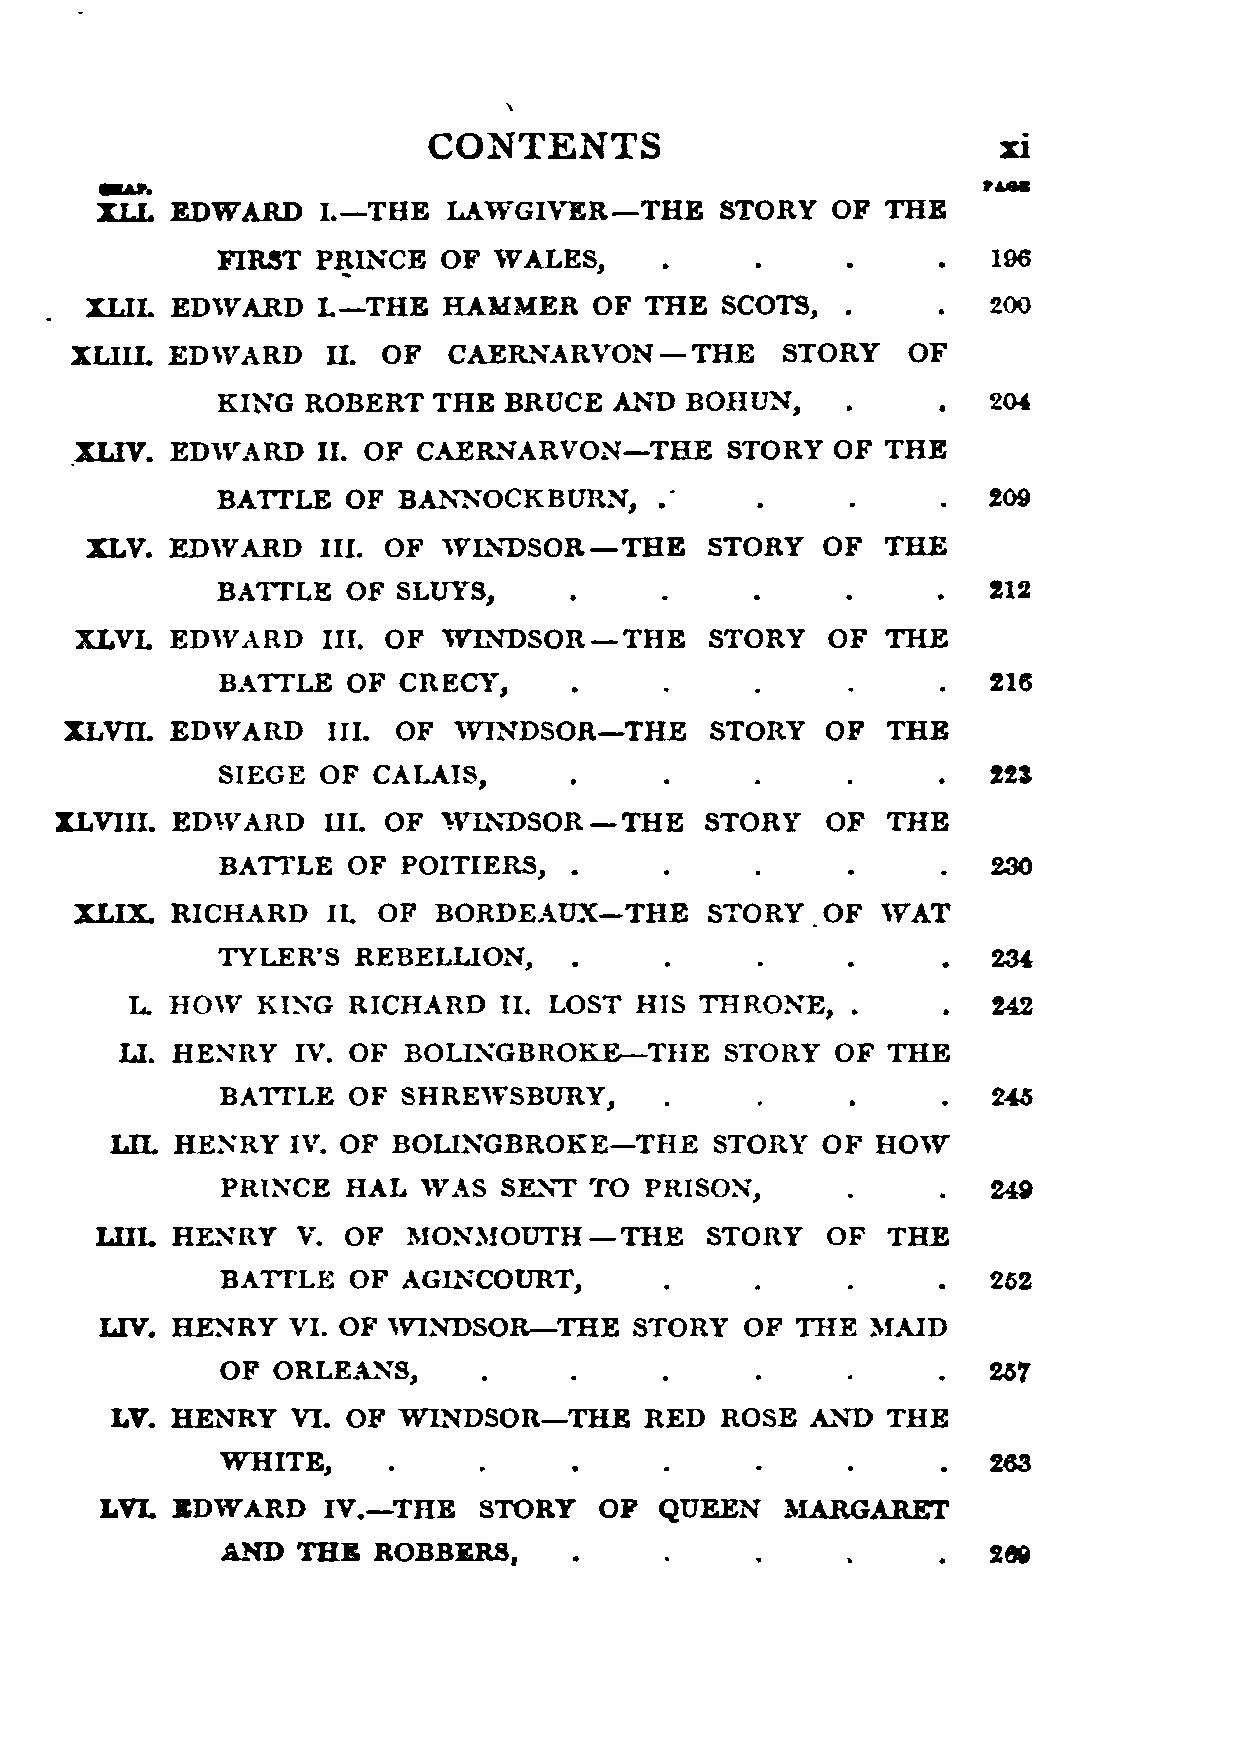TOC_chapter: (64, 427, 958, 518), (68, 523, 953, 615), (64, 331, 960, 421), (59, 887, 958, 972), (52, 706, 960, 788), (42, 794, 958, 875), (82, 189, 953, 271), (93, 1216, 960, 1296), (60, 619, 957, 697), (102, 1397, 953, 1479), (105, 1125, 953, 1206), (93, 1304, 953, 1385), (107, 1031, 953, 1111), (93, 1488, 946, 1565), (70, 274, 819, 326), (121, 986, 833, 1019)
TOC_pagenumber: (981, 929, 1041, 982), (980, 1346, 1045, 1389), (980, 1257, 1043, 1300), (980, 1443, 1037, 1486), (982, 1539, 1056, 1573), (982, 985, 1047, 1023), (982, 377, 1035, 420), (982, 1166, 1041, 1204), (982, 1078, 1041, 1115), (986, 747, 1033, 794), (986, 468, 1033, 513), (986, 568, 1037, 608), (988, 234, 1037, 274), (990, 845, 1033, 891), (982, 666, 1037, 694), (988, 289, 1033, 322)
chapter: (419, 126, 666, 169)
